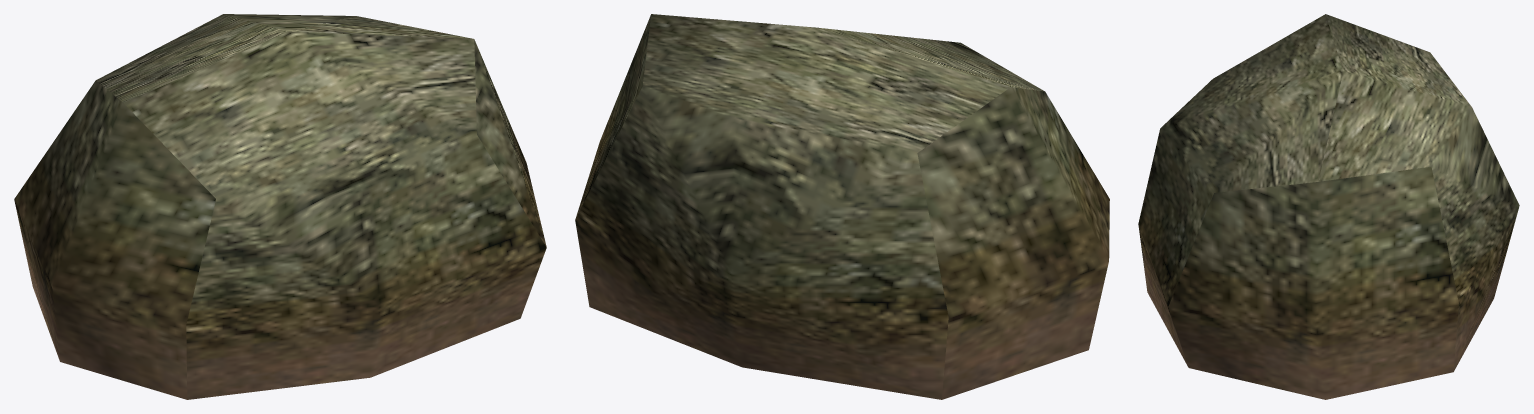
Rendered from nast10.dae.
The picture shows the model from 3 angles, left to right: view 1: azimuth 30°, elevation 25°; view 2: azimuth 150°, elevation 25°; view 3: azimuth 270°, elevation 25°; orthographic projection. The views are drawn at different scales.
Parts seen in each view (by area): view 1: stones02; view 2: stones02; view 3: stones02.
Boxes of the visible parts, x1=… form: stones02: x1=14, y1=14, x2=546, y2=399; stones02: x1=575, y1=14, x2=1109, y2=399; stones02: x1=1138, y1=14, x2=1519, y2=399.
Bounding box in the file's own units: 2.36 × 1.81 × 1.22.
1 material, 1 textured.
